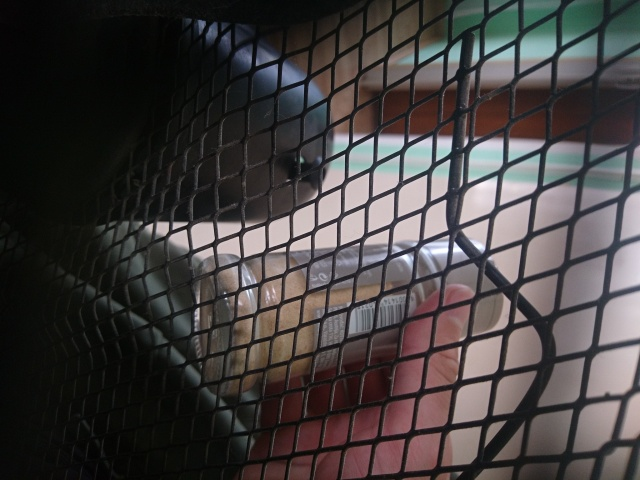Kotanyi Garlic Granules 70g: (187, 236, 507, 401)
